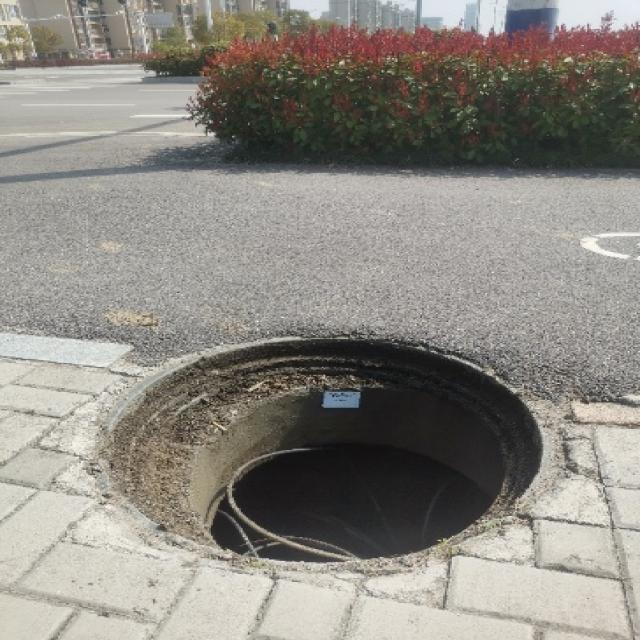Uncovered: (79, 323, 566, 574)
